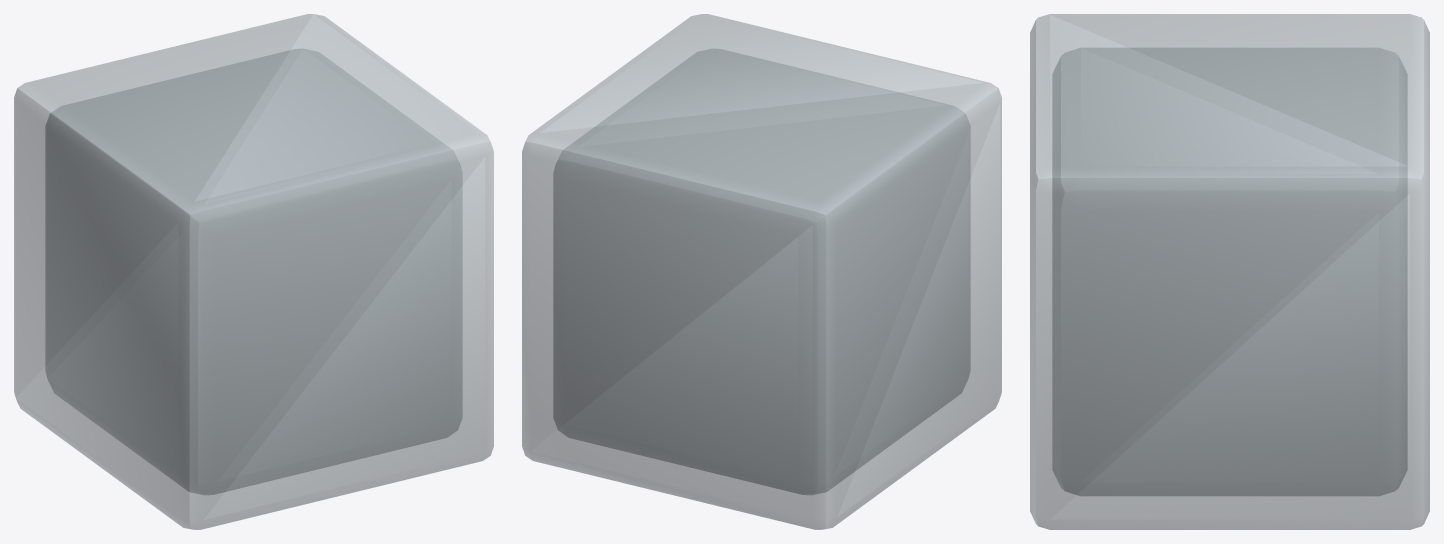
The model's file is glass.glb.
3 renders of one model, left to right at view 1: azimuth 30°, elevation 25°; view 2: azimuth 150°, elevation 25°; view 3: azimuth 270°, elevation 25°, orthographic. The views are drawn at different scales.
Parts seen in each view (by area): view 1: glass; view 2: glass; view 3: glass.
Boxes of the visible parts, bbox=[...] form: glass: bbox=[14, 14, 493, 529]; glass: bbox=[522, 14, 1001, 529]; glass: bbox=[1030, 14, 1429, 529].
Size of the model in its own units: 2 by 2 by 2.
Materials: 1 (1 with a texture image).
